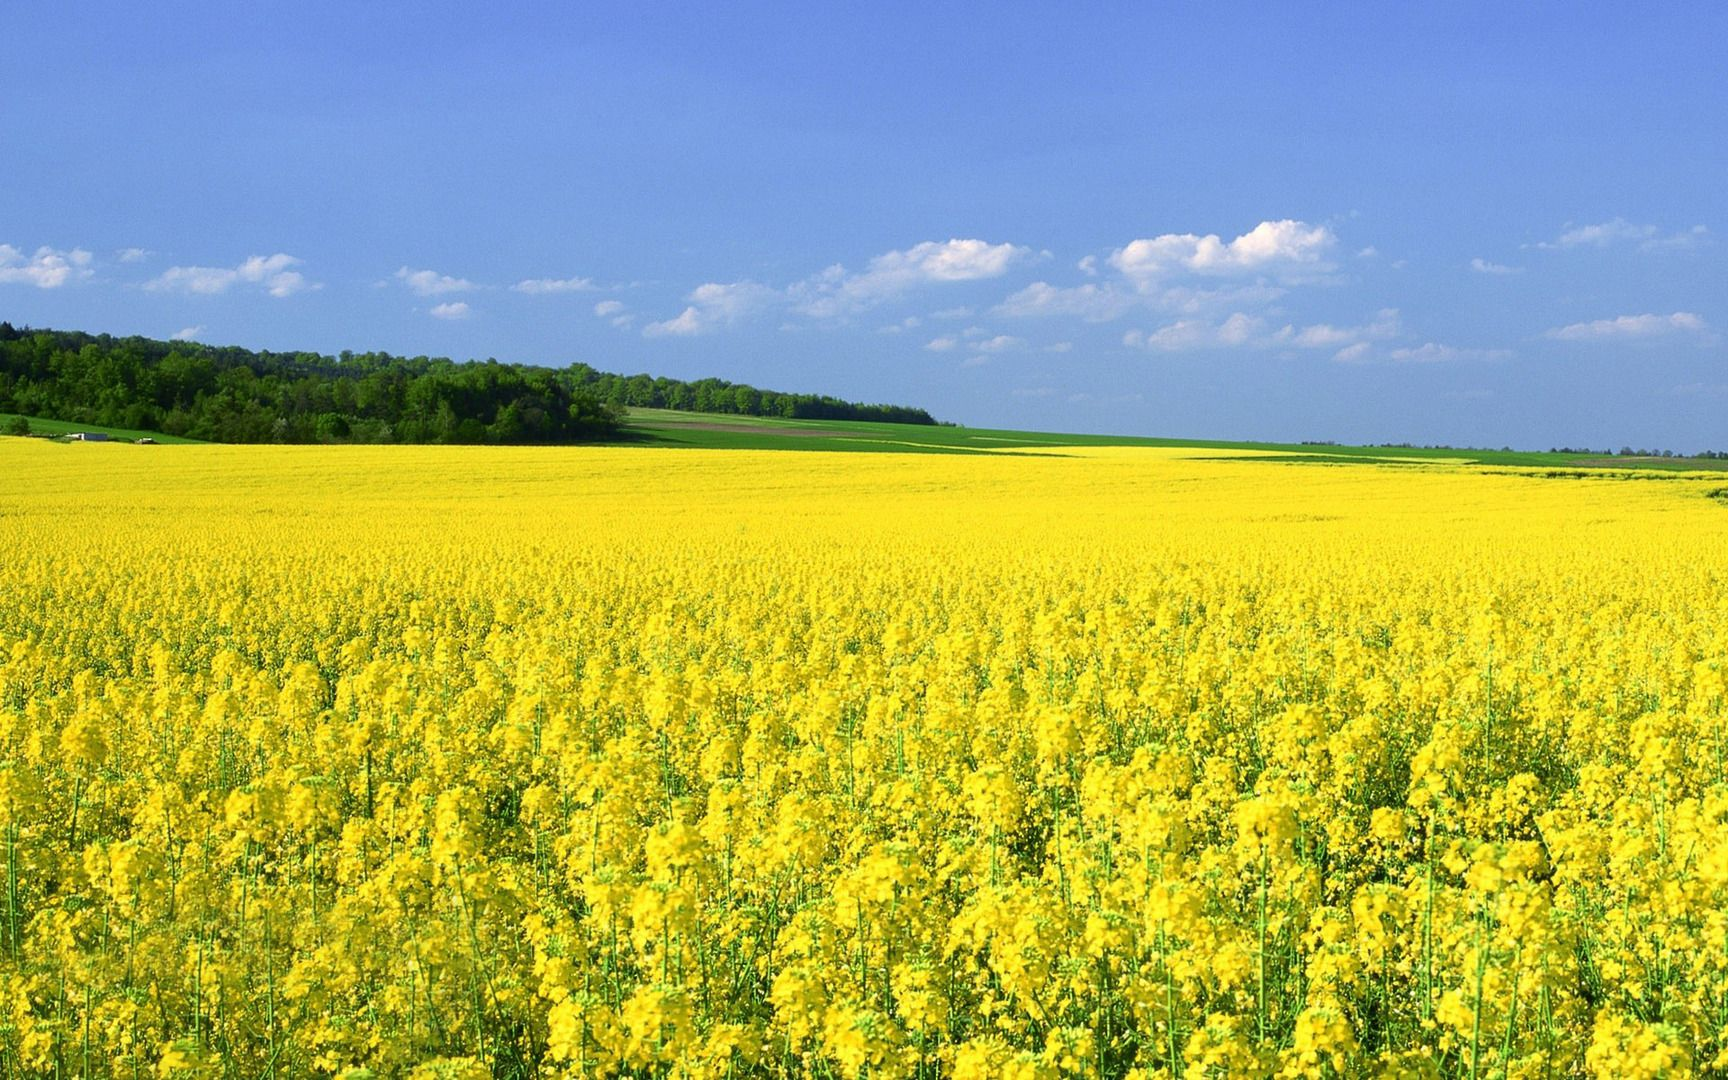mustard: (27, 449, 1728, 1078)
